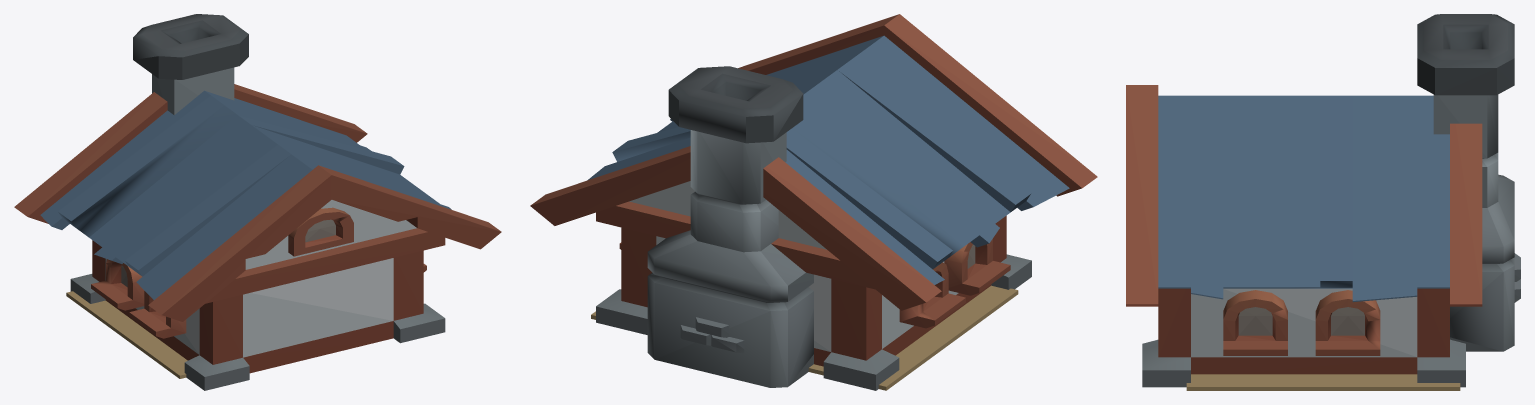
The model's file is home.glb.
The picture shows the model from 3 angles, left to right: view 1: azimuth 30°, elevation 25°; view 2: azimuth 150°, elevation 25°; view 3: azimuth 270°, elevation 25°; orthographic projection. The views are drawn at different scales.
Parts seen in each view (by area): view 1: roof_home, body_home, interior_floor; view 2: roof_home, body_home, interior_floor; view 3: roof_home, body_home, interior_floor.
Part boxes in pixels (<box>): roof_home: <box>14,14,501,321</box>; body_home: <box>41,145,501,390</box>; interior_floor: <box>66,291,187,378</box>; roof_home: <box>530,14,1097,310</box>; body_home: <box>587,119,1081,390</box>; interior_floor: <box>591,285,1018,390</box>; roof_home: <box>1126,14,1514,306</box>; body_home: <box>1126,174,1520,387</box>; interior_floor: <box>1186,374,1460,390</box>.
Bounding box in the file's own units: 208 × 135 × 173.
